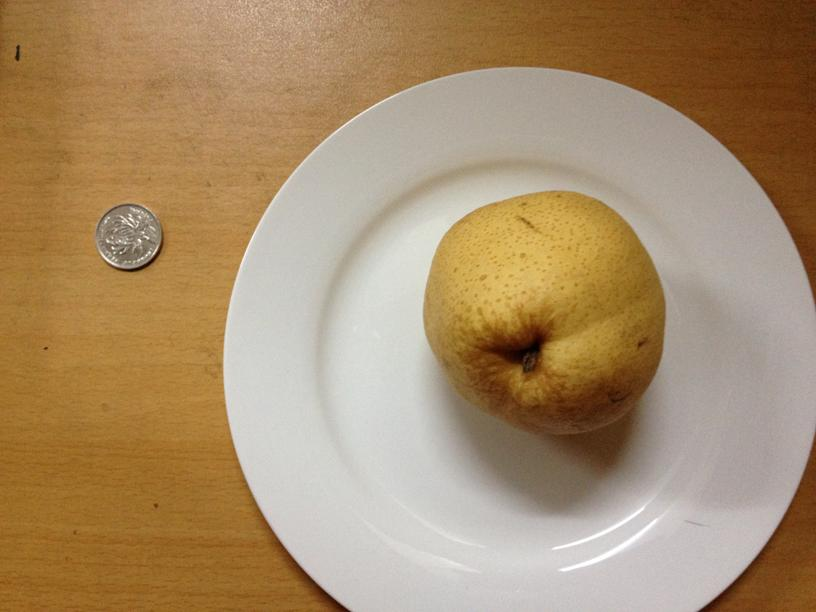coin: (92, 203, 163, 271)
pear: (422, 188, 663, 437)
